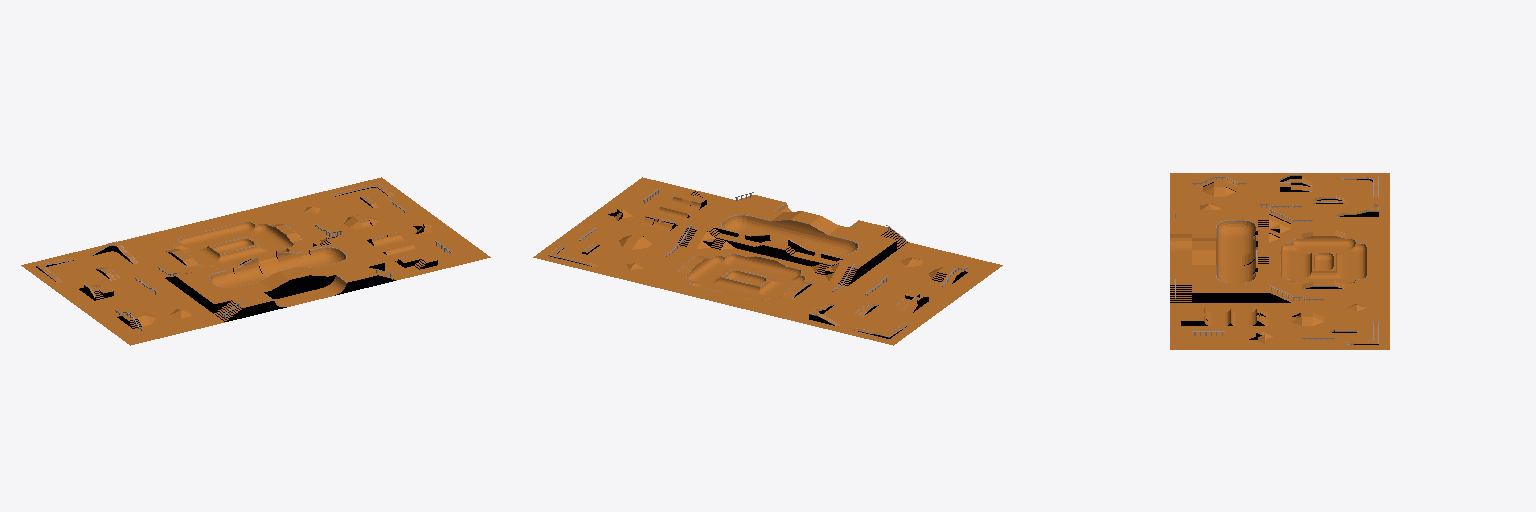
File: !Example_OBJ.obj
3 views of the same model, side by side, from view 1: azimuth 30°, elevation 25°; view 2: azimuth 150°, elevation 25°; view 3: azimuth 270°, elevation 25° (orthographic).
Parts seen in each view (by area): view 1: Park_0_2 pPlane23, Park_0_2 FlatBlock_321 FlatBlock_305 FlatBlock_303 FlatBlock_316, Park_0_2 Quater_SML_Straight Quater_SML_Straight85 Quater_SML_St, Park_0_2 Quater_LRG_Bowl Quater_LRG_Bowl5 Quater_LRG_Bowl7 Quate, Park_0_2 Quater_LRG_Gap Quater_LRG_Gap8 Quater_LRG_Gap7, Park_0_2 FlatBlock_5 FlatBlock_275 FlatBlock_274 FlatBlock_278 F, Park_0_2 Quater_SML_Bowl Quater_SML_Bowl36 Quater_SML_Bowl40 Qua, Park_0_2 Quater_LRG_Straight Quater_LRG_Straight6 Quater_LRG_Str; view 2: Park_0_2 pPlane23, Park_0_2 FlatBlock_321 FlatBlock_305 FlatBlock_303 FlatBlock_316, Park_0_2 Quater_SML_Straight Quater_SML_Straight85 Quater_SML_St, Park_0_2 Quater_LRG_Bowl Quater_LRG_Bowl5 Quater_LRG_Bowl7 Quate, Park_0_2 FlatBlock_6 FlatBlock_363 FlatBlock_364 FlatBlock_288 F, Park_0_2 Quater_LRG_Straight Quater_LRG_Straight6 Quater_LRG_Str, Park_0_2 Stairs_Full Stairs_Full15 Stairs_Full7 Stairs_Full4 Sta, Park_0_2 Quater_SML_Bowl Quater_SML_Bowl36 Quater_SML_Bowl40 Qua, Park_0_2 Ramp_5 Ramp_46 Ramp_52 Ramp_53 Ramp_51 Ramp_47 Ramp_48 , Park_0_2 Quater_LRG_HighVert_RL1 Quater_LRG_HighVert_RL9 Quater_, Park_0_2 FlatBlock_5 FlatBlock_275 FlatBlock_274 FlatBlock_278 F, Park_0_2 Quater_LRG_HighVert_RL11 Quater_LRG_HighVert_RL; view 3: Park_0_2 pPlane23, Park_0_2 FlatBlock_321 FlatBlock_305 FlatBlock_303 FlatBlock_316, Park_0_2 Quater_SML_Straight Quater_SML_Straight85 Quater_SML_St, Park_0_2 Quater_LRG_Bowl Quater_LRG_Bowl5 Quater_LRG_Bowl7 Quate, Park_0_2 Quater_LRG_Straight Quater_LRG_Straight6 Quater_LRG_Str, Park_0_2 Quater_SML_Bowl Quater_SML_Bowl36 Quater_SML_Bowl40 Qua, Park_0_2 FlatBlock_6 FlatBlock_363 FlatBlock_364 FlatBlock_288 F, Park_0_2 Stairs_Full Stairs_Full15 Stairs_Full7 Stairs_Full4 Sta, Park_0_2 FlatBlock_5 FlatBlock_275 FlatBlock_274 FlatBlock_278 F.
Boxes of the visible parts, x1,y1,x2,y2 form: Park_0_2 pPlane23: [21, 177, 490, 345]; Park_0_2 FlatBlock_321 FlatBlock_305 FlatBlock_303 FlatBlock_316: [176, 235, 384, 317]; Park_0_2 Quater_SML_Straight Quater_SML_Straight85 Quater_SML_St: [184, 218, 425, 263]; Park_0_2 Quater_LRG_Bowl Quater_LRG_Bowl5 Quater_LRG_Bowl7 Quate: [201, 243, 354, 291]; Park_0_2 Quater_LRG_Gap Quater_LRG_Gap8 Quater_LRG_Gap7: [220, 248, 324, 287]; Park_0_2 FlatBlock_5 FlatBlock_275 FlatBlock_274 FlatBlock_278 F: [132, 214, 437, 319]; Park_0_2 Quater_SML_Bowl Quater_SML_Bowl36 Quater_SML_Bowl40 Qua: [171, 220, 297, 269]; Park_0_2 Quater_LRG_Straight Quater_LRG_Straight6 Quater_LRG_Str: [240, 263, 348, 310]; Park_0_2 pPlane23: [533, 177, 1002, 345]; Park_0_2 FlatBlock_321 FlatBlock_305 FlatBlock_303 FlatBlock_316: [688, 195, 896, 277]; Park_0_2 Quater_SML_Straight Quater_SML_Straight85 Quater_SML_St: [634, 196, 795, 299]; Park_0_2 Quater_LRG_Bowl Quater_LRG_Bowl5 Quater_LRG_Bowl7 Quate: [713, 211, 866, 261]; Park_0_2 FlatBlock_6 FlatBlock_363 FlatBlock_364 FlatBlock_288 F: [717, 211, 835, 266]; Park_0_2 Quater_LRG_Straight Quater_LRG_Straight6 Quater_LRG_Str: [743, 202, 859, 255]; Park_0_2 Stairs_Full Stairs_Full15 Stairs_Full7 Stairs_Full4 Sta: [689, 190, 946, 281]; Park_0_2 Quater_SML_Bowl Quater_SML_Bowl36 Quater_SML_Bowl40 Qua: [683, 252, 808, 302]; Park_0_2 Ramp_5 Ramp_46 Ramp_52 Ramp_53 Ramp_51 Ramp_47 Ramp_48 : [619, 229, 949, 283]; Park_0_2 Quater_LRG_HighVert_RL1 Quater_LRG_HighVert_RL9 Quater_: [750, 224, 828, 251]; Park_0_2 FlatBlock_5 FlatBlock_275 FlatBlock_274 FlatBlock_278 F: [628, 188, 952, 281]; Park_0_2 Quater_LRG_HighVert_RL11 Quater_LRG_HighVert_RL: [766, 219, 817, 253]; Park_0_2 pPlane23: [1170, 173, 1389, 349]; Park_0_2 FlatBlock_321 FlatBlock_305 FlatBlock_303 FlatBlock_316: [1170, 210, 1268, 302]; Park_0_2 Quater_SML_Straight Quater_SML_Straight85 Quater_SML_St: [1203, 248, 1367, 325]; Park_0_2 Quater_LRG_Bowl Quater_LRG_Bowl5 Quater_LRG_Bowl7 Quate: [1214, 219, 1257, 283]; Park_0_2 Quater_LRG_Straight Quater_LRG_Straight6 Quater_LRG_Str: [1170, 228, 1235, 282]; Park_0_2 Quater_SML_Bowl Quater_SML_Bowl36 Quater_SML_Bowl40 Qua: [1280, 238, 1367, 284]; Park_0_2 FlatBlock_6 FlatBlock_363 FlatBlock_364 FlatBlock_288 F: [1192, 228, 1268, 282]; Park_0_2 Stairs_Full Stairs_Full15 Stairs_Full7 Stairs_Full4 Sta: [1181, 182, 1279, 316]; Park_0_2 FlatBlock_5 FlatBlock_275 FlatBlock_274 FlatBlock_278 F: [1181, 182, 1312, 325].
Size of the model in its own units: 380 by 21.01 by 200.